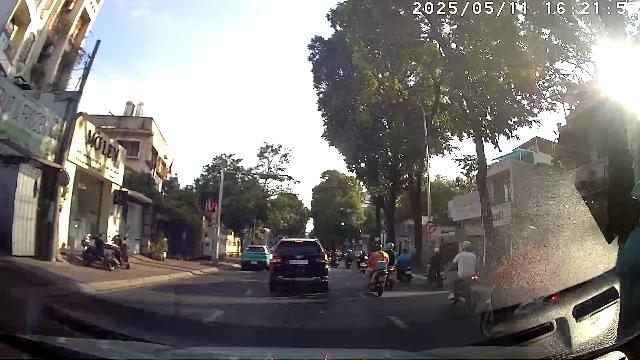123b-cam-re-phai: (425, 222, 435, 232)
